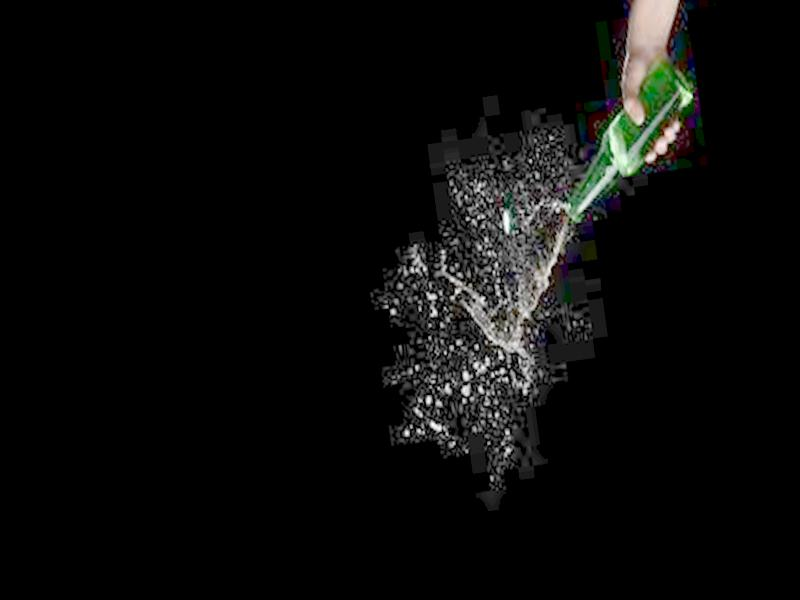Beer: (546, 50, 710, 220)
